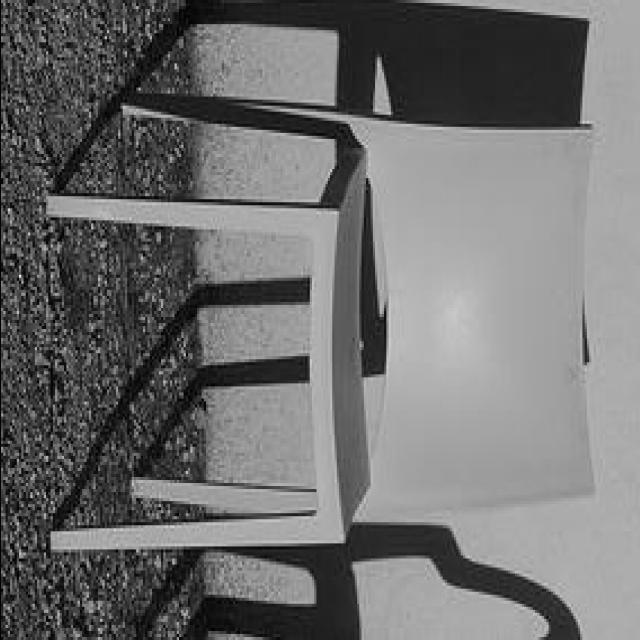chair: (45, 90, 593, 564)
